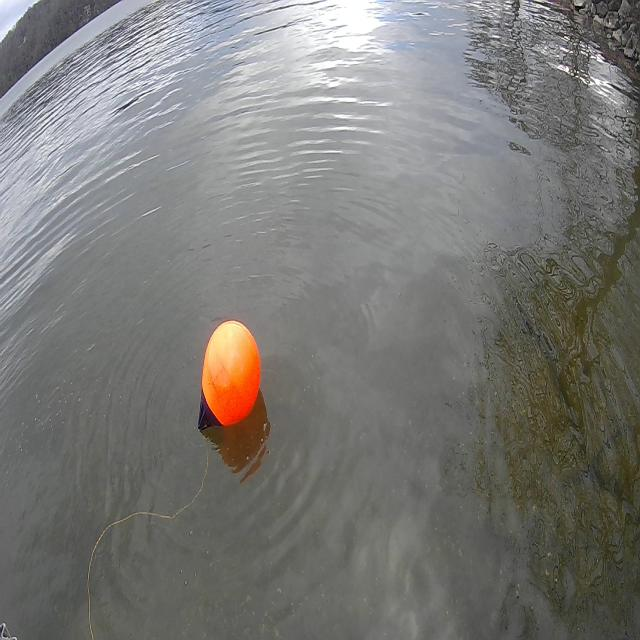Buoy: (193, 314, 264, 436)
